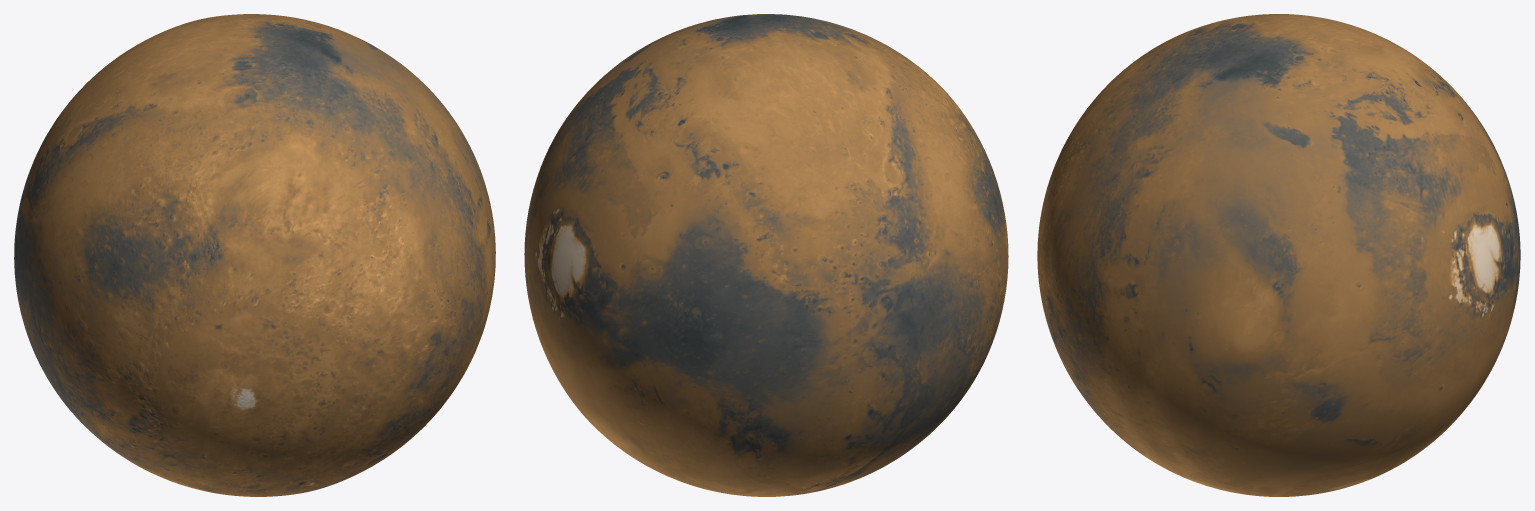
Rendered from mars.glb.
The picture shows the model from 3 angles, left to right: view 1: azimuth 30°, elevation 25°; view 2: azimuth 150°, elevation 25°; view 3: azimuth 270°, elevation 25°; orthographic projection.
Visible parts, largest first — view 1: Mars; view 2: Mars; view 3: Mars.
Part boxes in pixels (x1,y1,x2,y2): Mars: (14,14,495,496); Mars: (524,14,1008,496); Mars: (1037,14,1520,496).
Size of the model in its own units: 6.71 by 6.7 by 6.71.
Materials: 1 (1 with a texture image).
